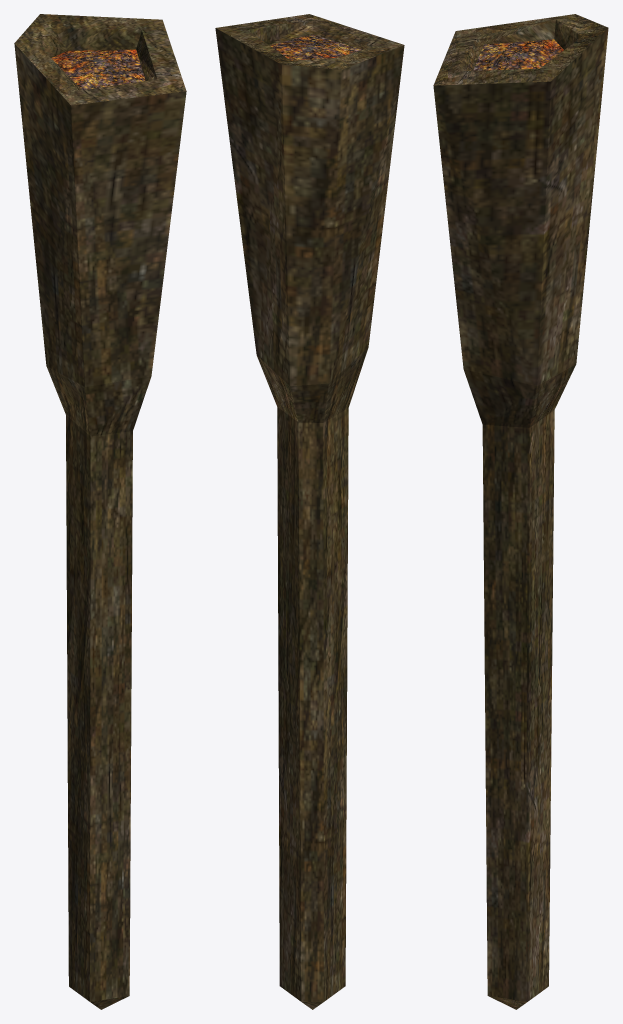
Rendered from thm_endr_tiki_torch_s01_l1_torch.fbx.
3 renders of one model, left to right at view 1: azimuth 30°, elevation 25°; view 2: azimuth 150°, elevation 25°; view 3: azimuth 270°, elevation 25°, orthographic.
Visible parts, largest first — view 1: mesh_node; view 2: mesh_node; view 3: mesh_node.
Part boxes in pixels (left/top/right/bottom): mesh_node: left=14, top=14, right=186, bottom=1009; mesh_node: left=215, top=14, right=404, bottom=1009; mesh_node: left=433, top=14, right=608, bottom=1009.
Bounding box in the file's own units: 0.234 × 1.56 × 0.2536.
2 materials, 2 textured.
